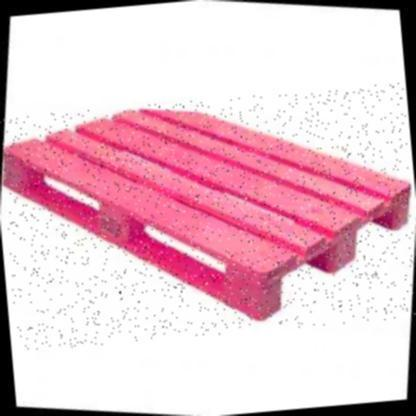pallet: (3, 101, 416, 328)
